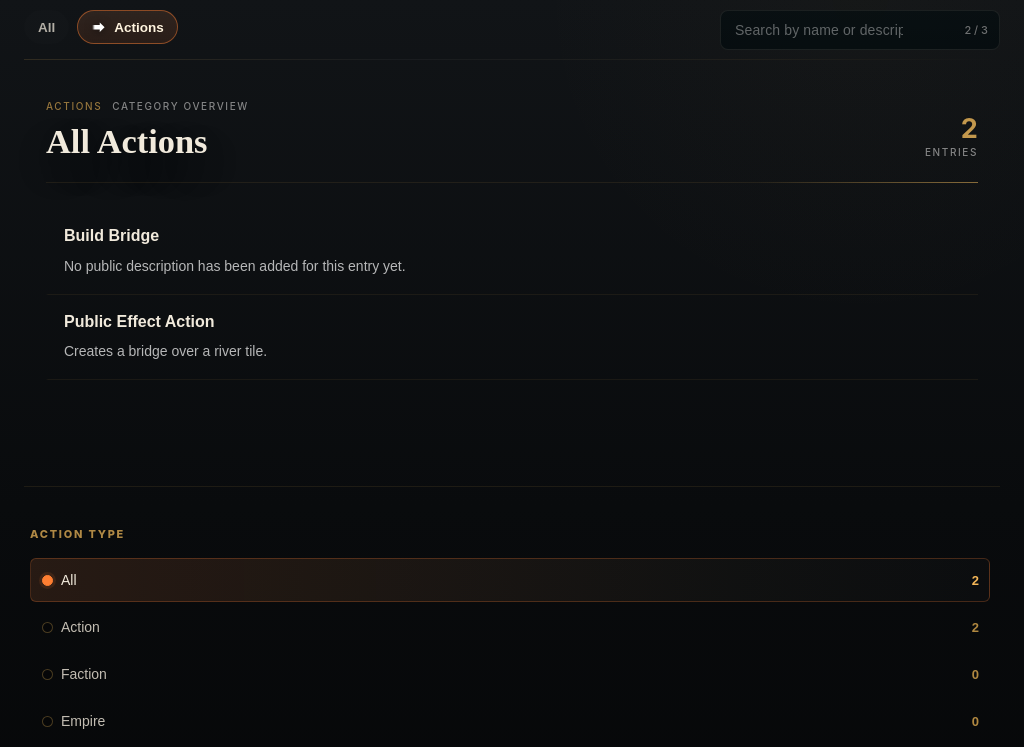
Test case: CodexPage Action and Diplomacy archives › keeps Action archive rows shallow while preserving detail mechanics and related modifiers
Expected: the heading "All Actions" is shown, 46,124 -> 208,158
Expected: the text "Build Bridge" is shown, 64,227 -> 159,244
Click the button "Build Bridge" at (112, 236), box 46,209 -> 978,295
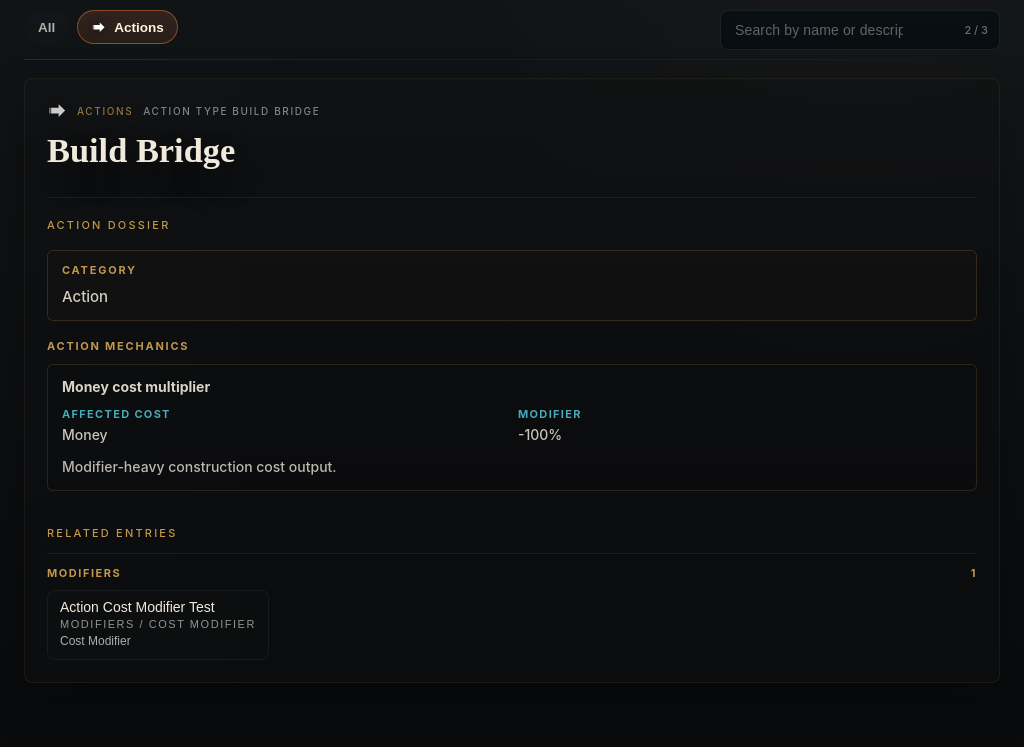
Result: the heading "Build Bridge" is shown at 47,131 -> 235,169
Result: the heading "Action mechanics" is shown at 47,338 -> 189,352
Result: the heading "Money cost multiplier" is shown at 62,378 -> 210,395
